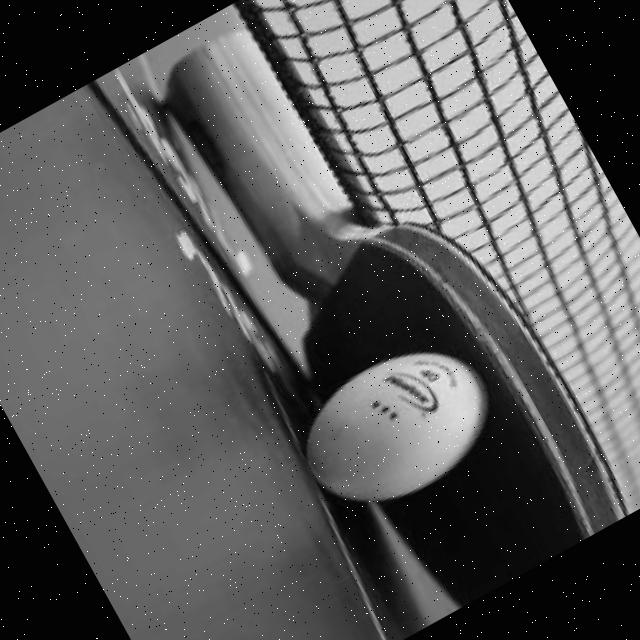ping-pong-ball: (281, 322, 509, 530)
